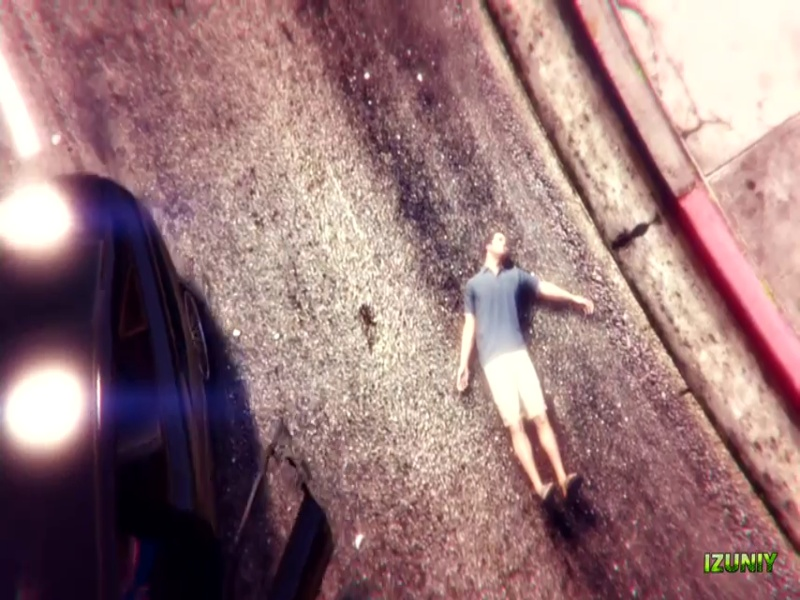human: (458, 243, 594, 509)
